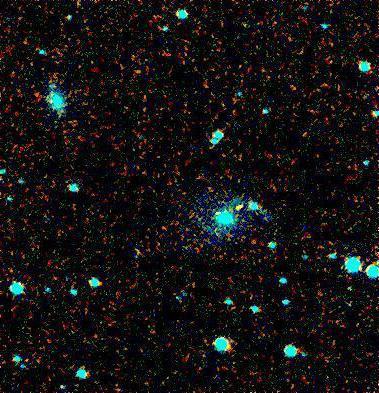star: (222, 193, 252, 223)
